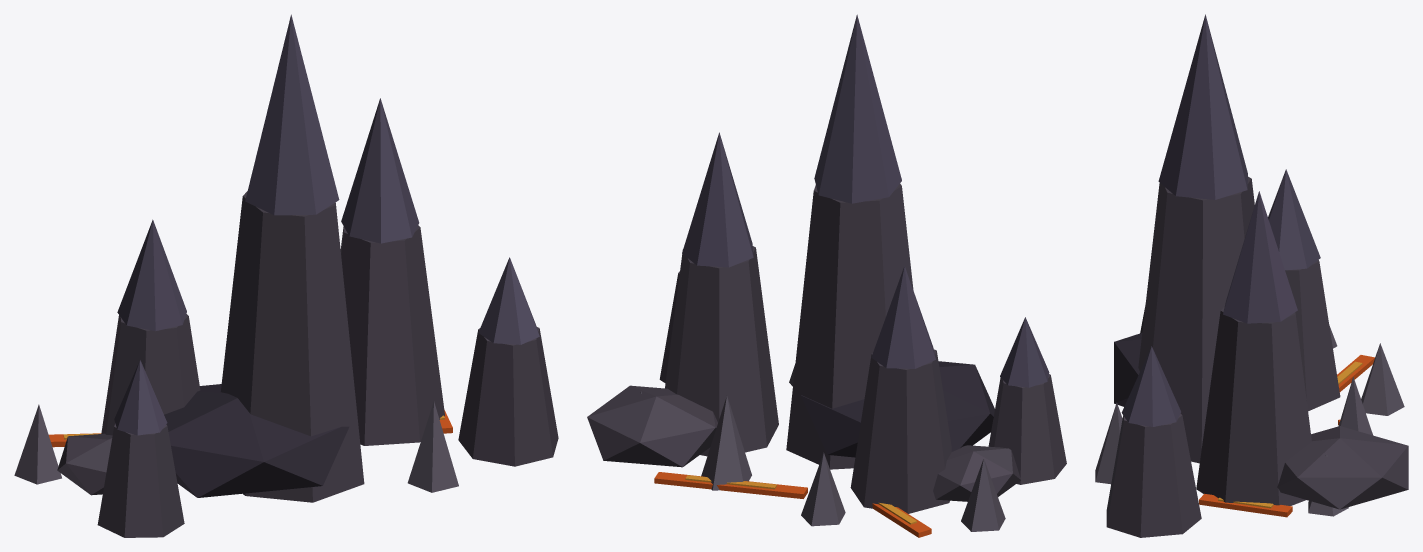
File: Decor_DragonLair_Stalagmites.fbx
The picture shows the model from 3 angles, left to right: view 1: azimuth 30°, elevation 25°; view 2: azimuth 150°, elevation 25°; view 3: azimuth 270°, elevation 25°; orthographic projection. The views are drawn at different scales.
Parts seen in each view (by area): view 1: Stalagmites_Body; view 2: Stalagmites_Body; view 3: Stalagmites_Body.
Part boxes in pixels (x1,y1,x2,y2): Stalagmites_Body: [14, 14, 558, 537]; Stalagmites_Body: [587, 14, 1066, 537]; Stalagmites_Body: [1095, 14, 1408, 537].
Bounding box in the file's own units: 18.23 × 17.85 × 12.
